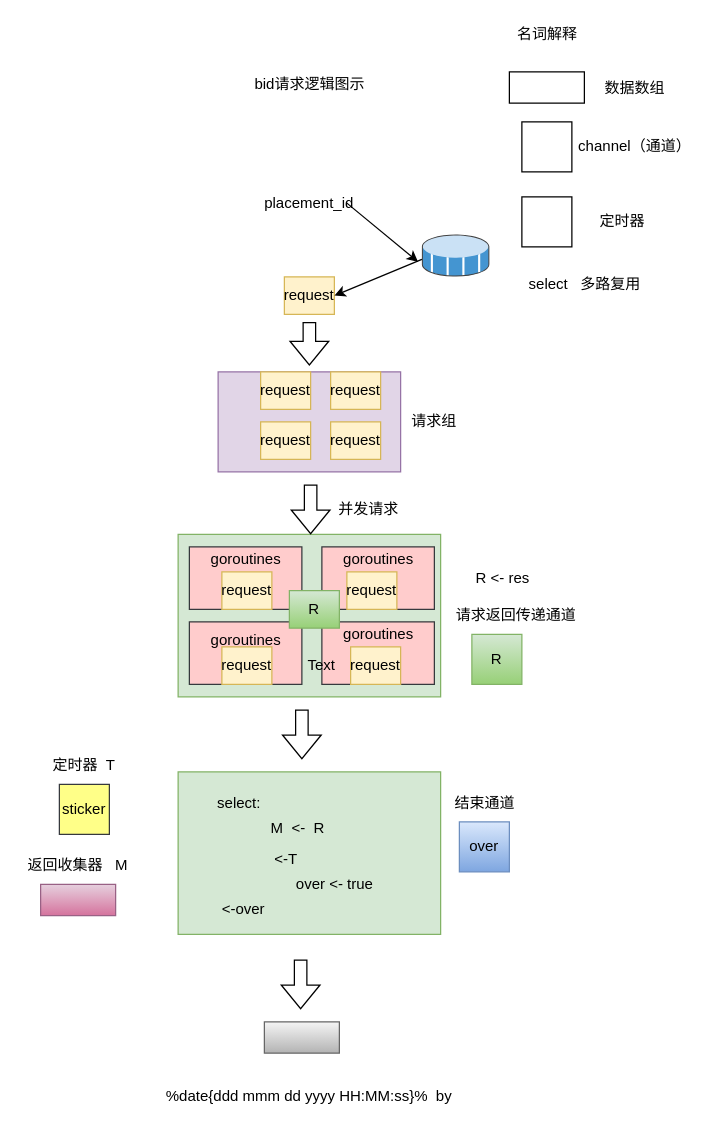
Some shapes in this 724 by 1143 pixel diagram are drawn without their labels. Each missing label, with the centre of its shape:
"DB" goes at pixel 455 255.
"response" goes at pixel 301 1037.
